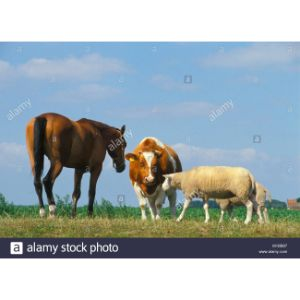cow: (126, 133, 162, 222)
horse: (24, 108, 126, 220)
sheep: (163, 169, 252, 226), (255, 181, 272, 225)
